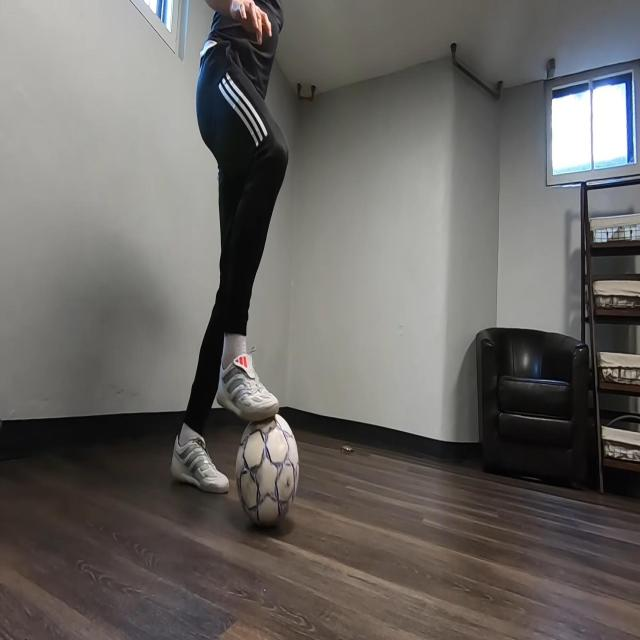Soccer Ball: (235, 407, 300, 532)
